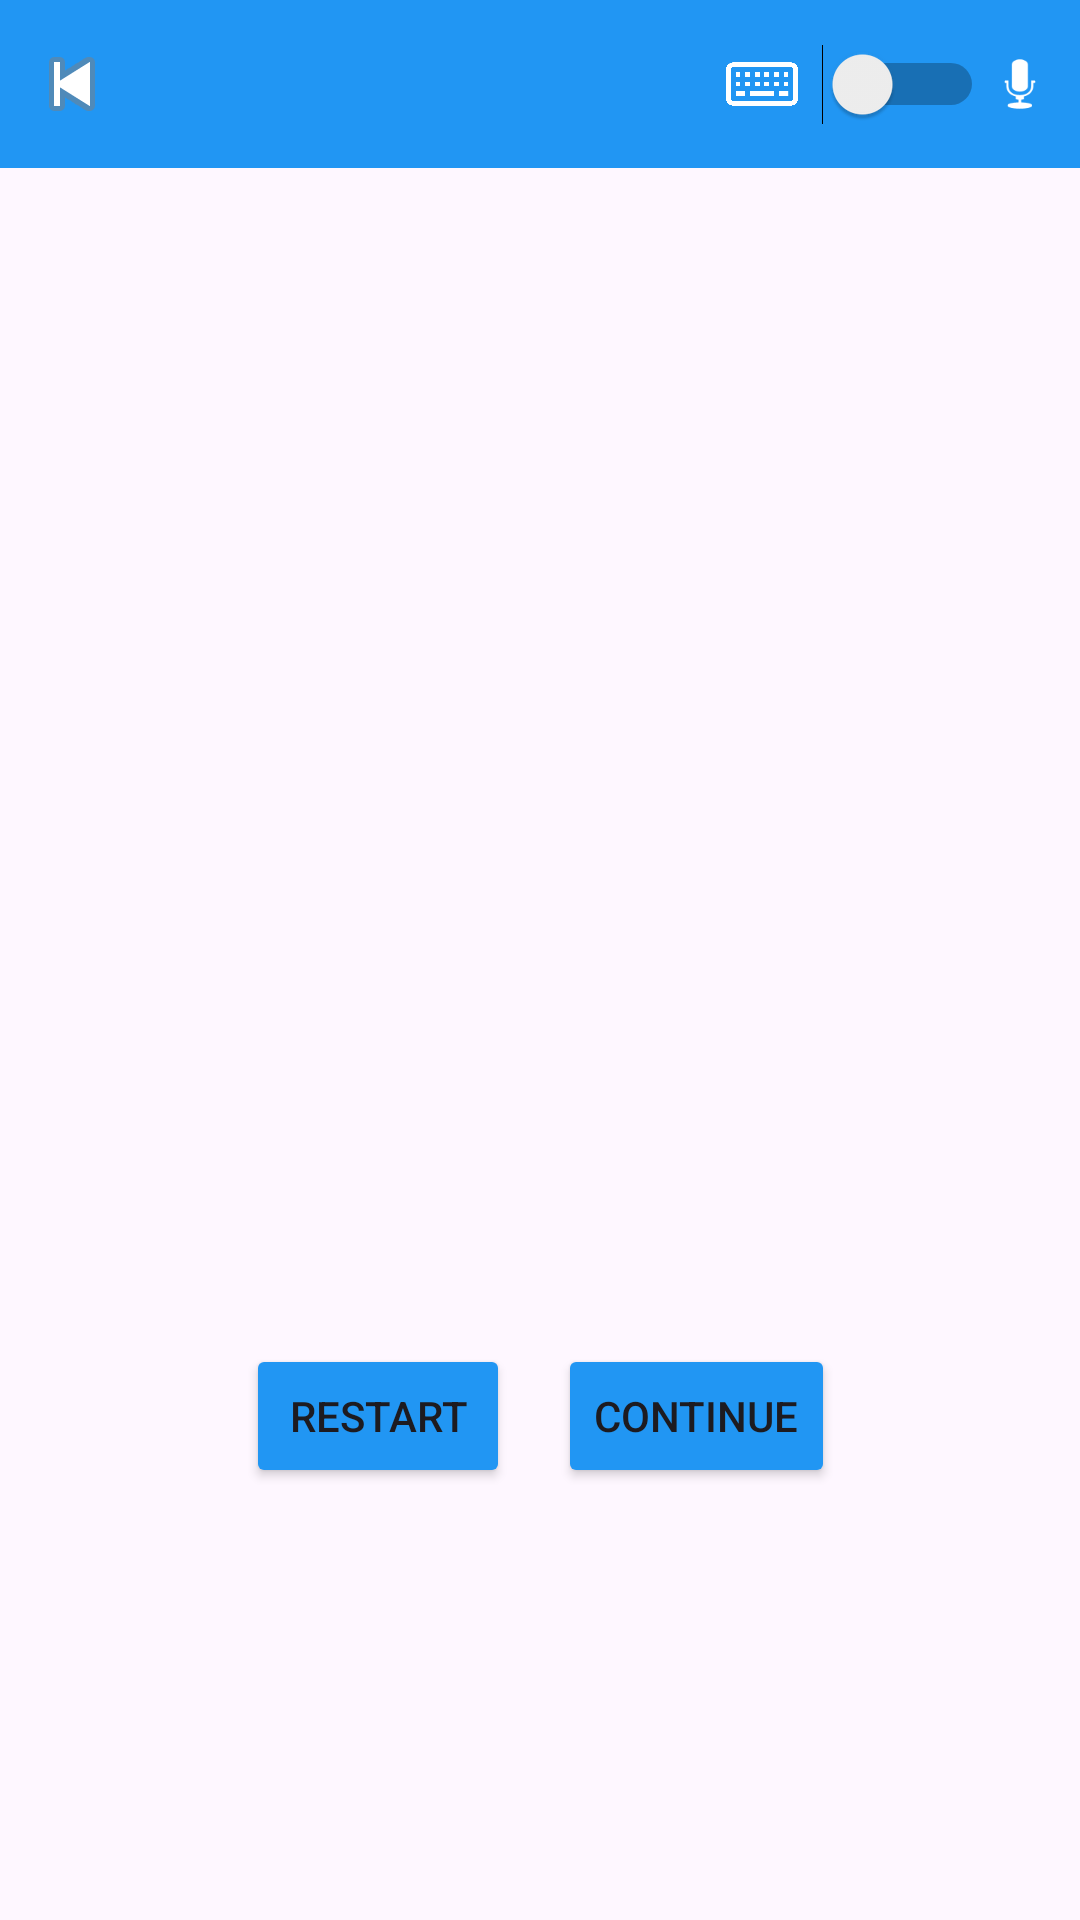

Icon click points for this 1080px×1920px phone screenshot, format (x=x, y=y):
Back: (x=72, y=84)
Keyboard: (x=762, y=84)
Mic: (x=1020, y=84)
